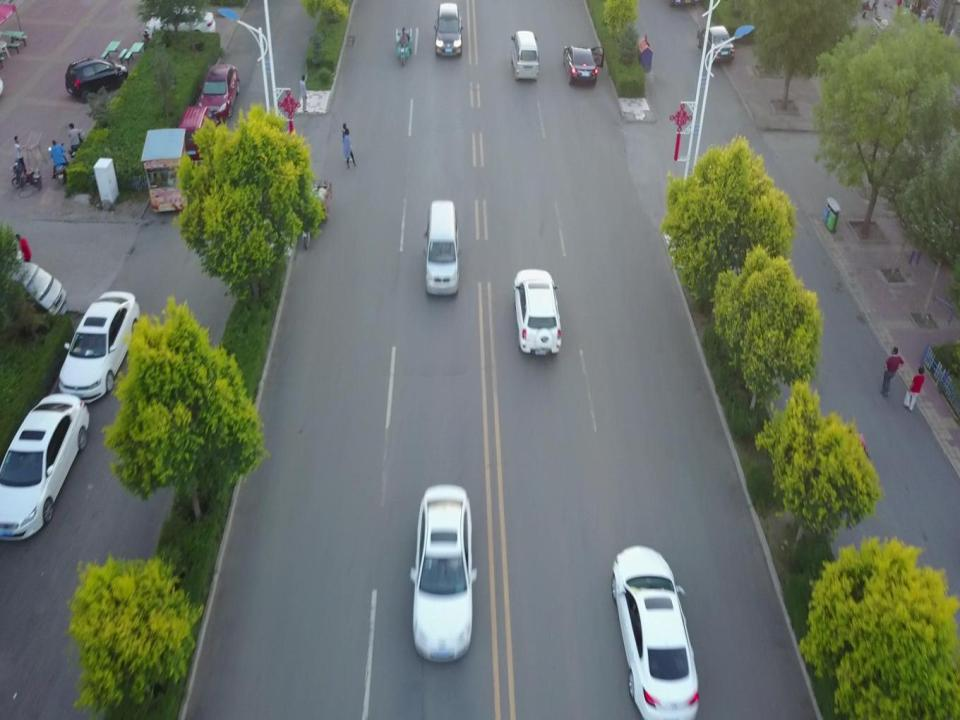car: (611, 540, 698, 720), (4, 395, 88, 540), (412, 484, 477, 662), (58, 289, 138, 406), (511, 266, 562, 358), (3, 265, 65, 321), (65, 55, 128, 102), (196, 62, 238, 123), (144, 8, 215, 40), (562, 43, 604, 85), (697, 23, 735, 63)
van: (425, 200, 459, 296), (178, 106, 216, 160), (435, 3, 463, 57), (510, 31, 539, 81)
